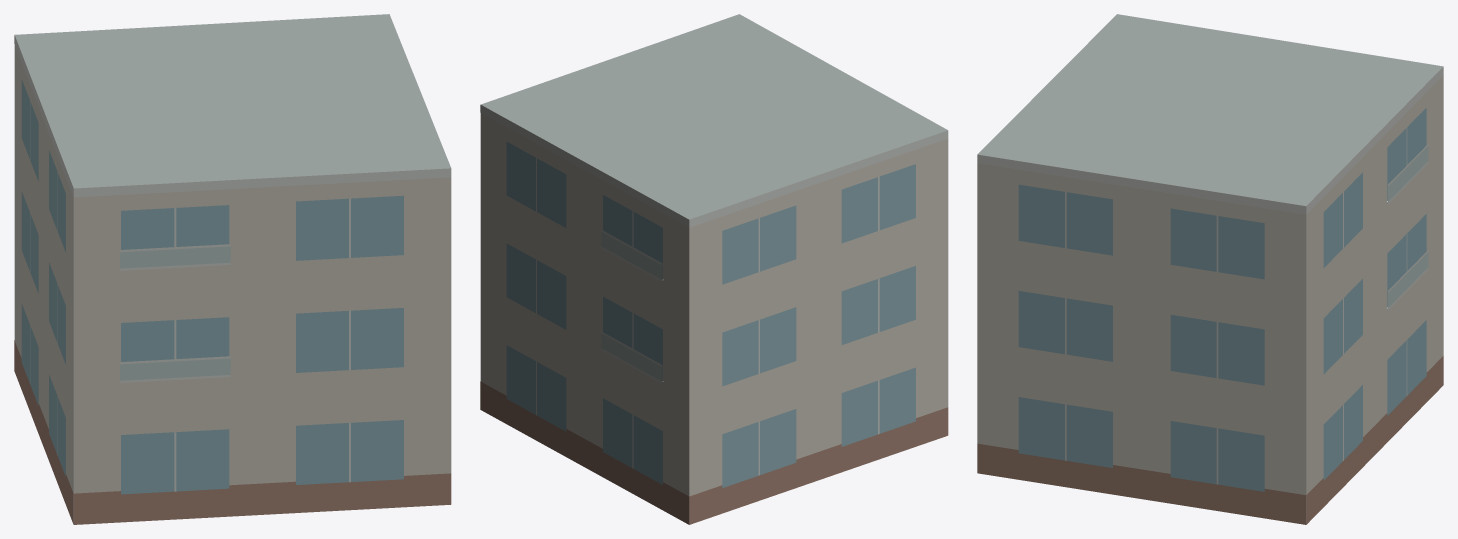
The model's file is survey-upis-32771936.glb.
The picture shows the model from 3 angles, left to right: view 1: azimuth 30°, elevation 25°; view 2: azimuth 150°, elevation 25°; view 3: azimuth 270°, elevation 25°; orthographic projection. The views are drawn at different scales.
Visible parts, largest first — view 1: survey-upis-32771936.tmp; view 2: survey-upis-32771936.tmp; view 3: survey-upis-32771936.tmp.
Part boxes in pixels (left/top/right/bottom): survey-upis-32771936.tmp: left=14, top=14, right=451, bottom=524; survey-upis-32771936.tmp: left=480, top=14, right=948, bottom=524; survey-upis-32771936.tmp: left=977, top=14, right=1443, bottom=524.
Bounding box in the file's own units: 11.84 × 9.15 × 12.14.
